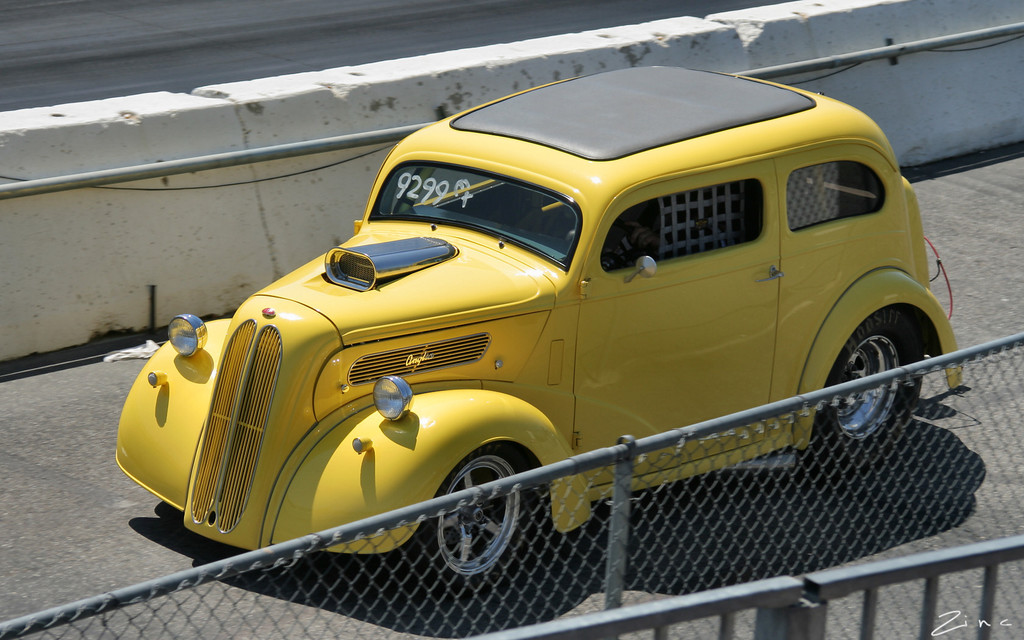mobil: (91, 77, 950, 565)
